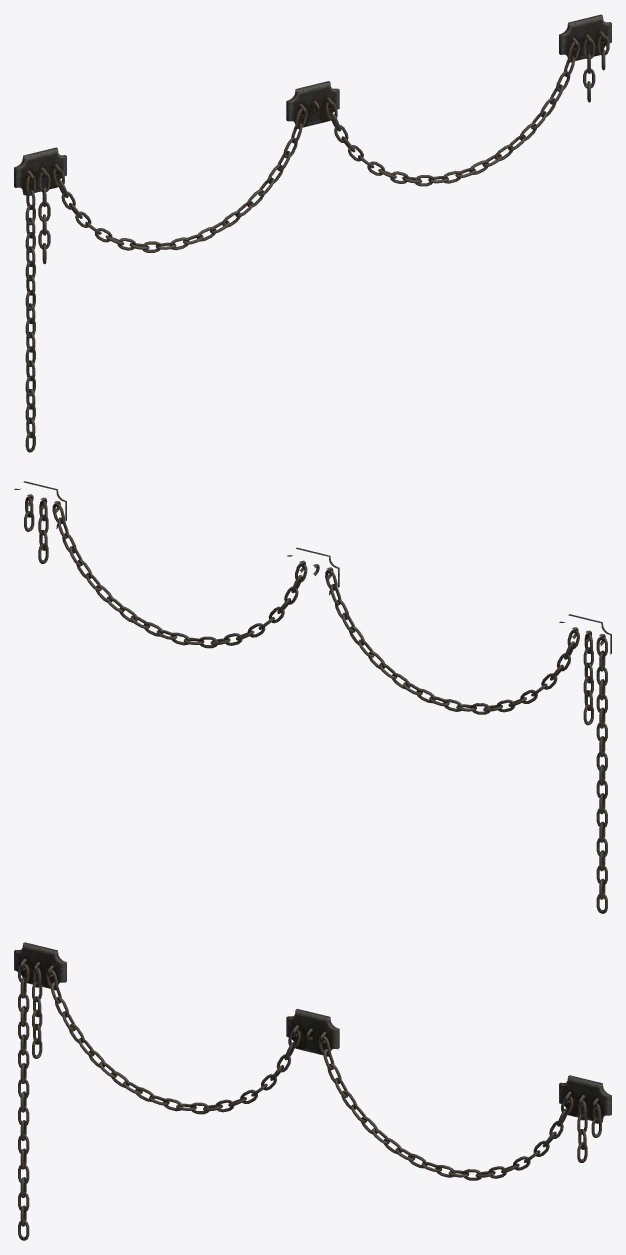
Rendered from SM_Decor_Chains_A.glb.
The picture shows the model from 3 angles, top to bottom: view 1: azimuth 30°, elevation 25°; view 2: azimuth 150°, elevation 25°; view 3: azimuth 330°, elevation 25°; orthographic projection.
Parts seen in each view (by area): view 1: SM_Decor_Chains_A; view 2: SM_Decor_Chains_A; view 3: SM_Decor_Chains_A.
Part boxes in pixels (<box>): SM_Decor_Chains_A: <box>14,14,611,452</box>; SM_Decor_Chains_A: <box>14,481,611,913</box>; SM_Decor_Chains_A: <box>14,942,611,1240</box>.
Bounding box in the file's own units: 4.38 × 2.06 × 0.0937.
1 material, 1 textured.
